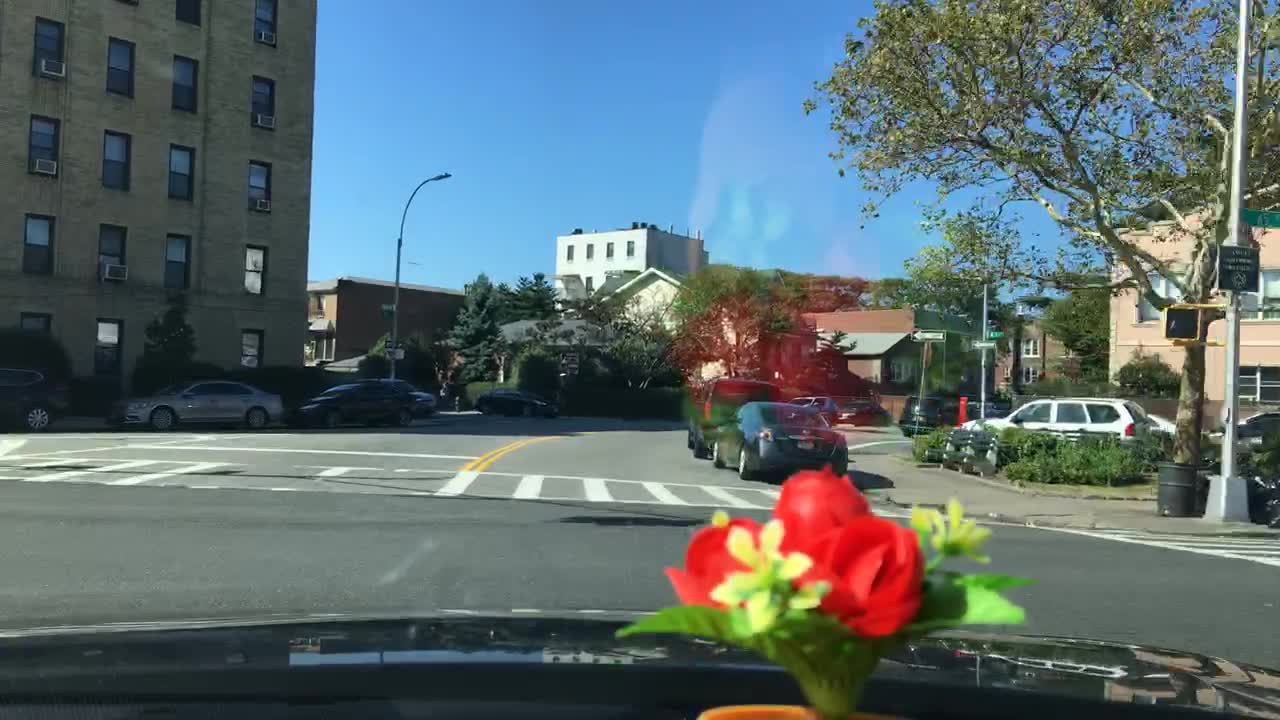car: (711, 401, 850, 480), (959, 394, 1156, 443), (108, 376, 283, 431), (685, 377, 785, 457), (289, 376, 417, 427), (0, 360, 70, 430), (898, 395, 980, 435), (474, 388, 560, 419), (1215, 410, 1277, 449), (1247, 454, 1278, 532), (788, 393, 838, 423), (401, 377, 437, 418), (837, 400, 891, 425), (961, 400, 1010, 420), (1147, 414, 1177, 434)
traffic light: (1165, 304, 1203, 341)
traffic sign: (1216, 242, 1257, 292), (1240, 203, 1276, 226), (909, 327, 947, 342), (970, 340, 997, 350), (986, 330, 1004, 337), (568, 364, 579, 374), (564, 353, 577, 360)
